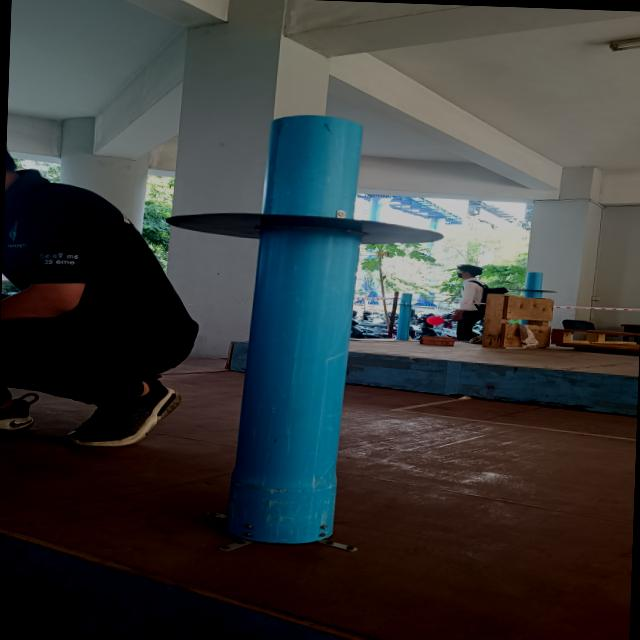pole: (114, 92, 492, 370)
